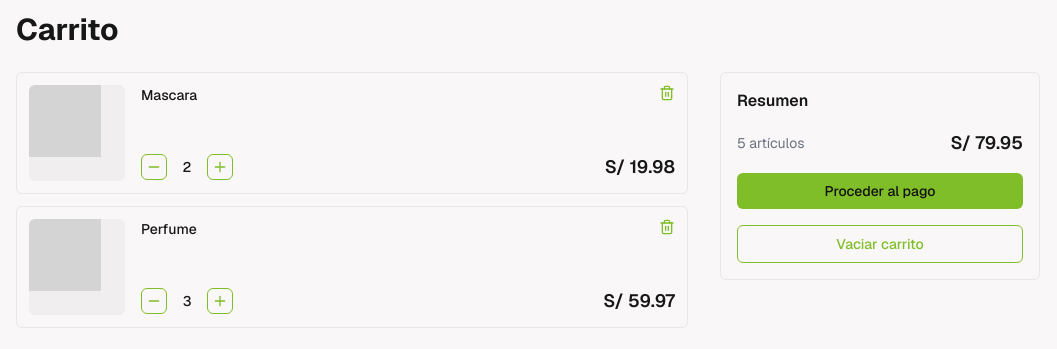
Test: CartView › con productos › vacía el carrito y vuelve al estado vacío
What coordinates should you click on to do the following:
click the button "Vaciar carrito"
I would click on:
 (880, 244)
Its box is [737,225,1023,263].
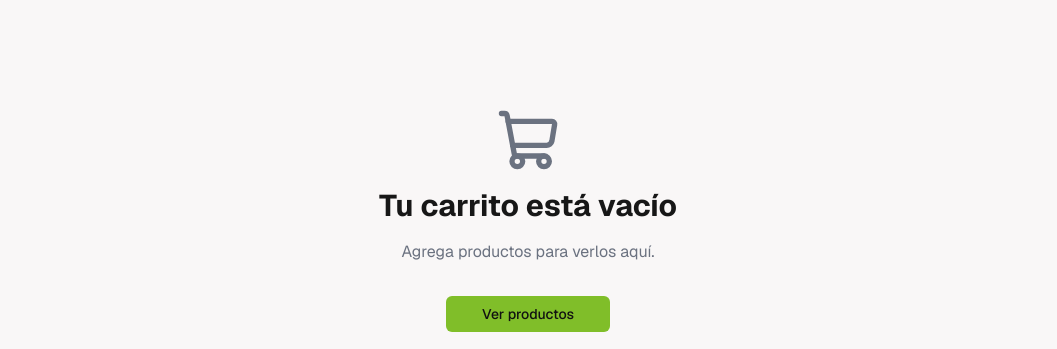
expect the heading "Tu carrito está vacío" is shown: met, box [379,188,677,224]
